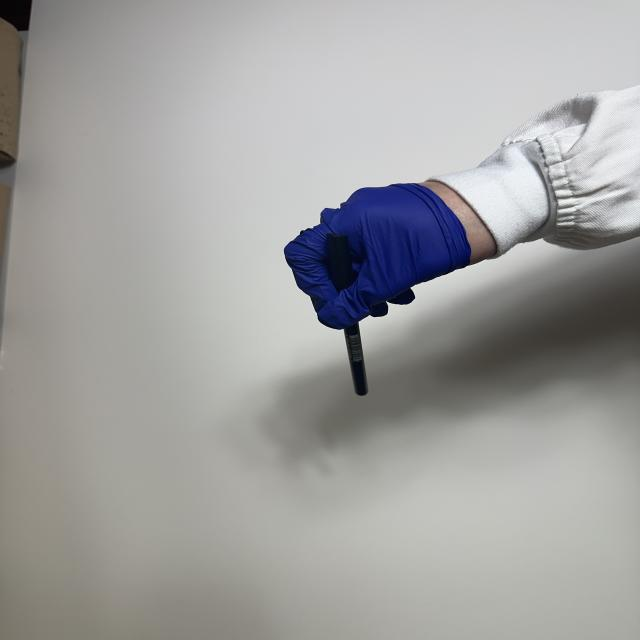glove_partial: (284, 178, 501, 330)
